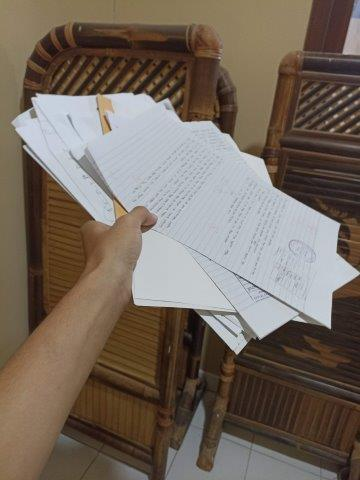kertas: (11, 92, 360, 354)
